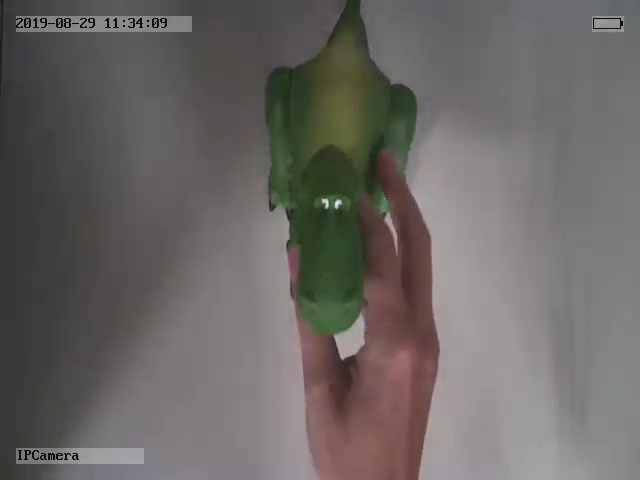rex: (261, 5, 419, 337)
